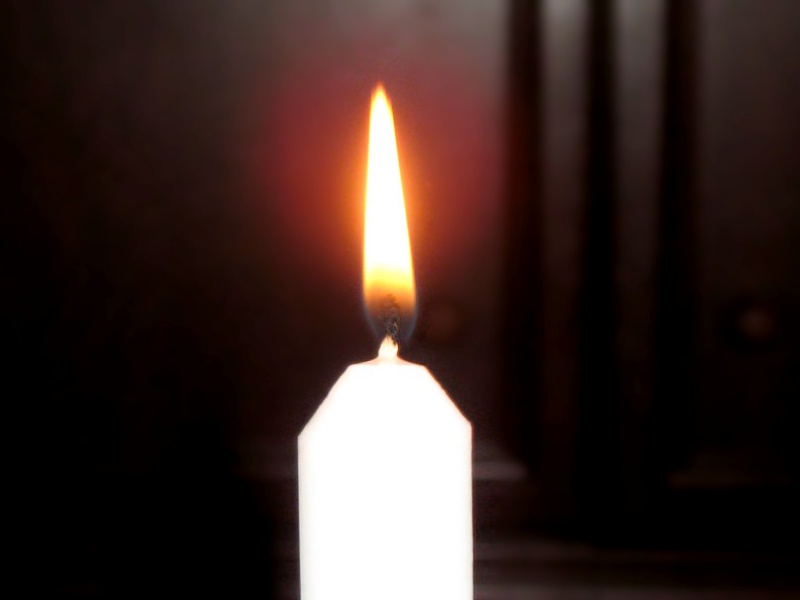fire: (361, 84, 416, 337)
